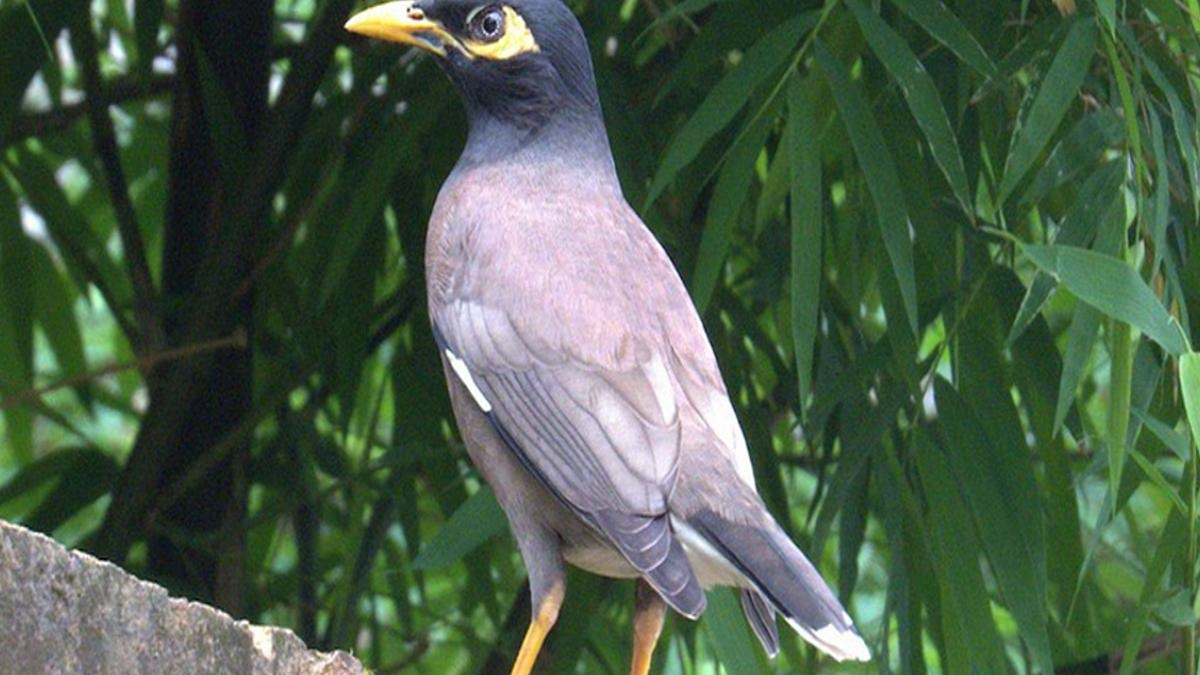myna: (353, 3, 900, 675)
